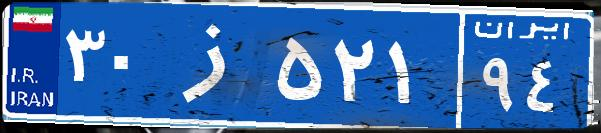0: (110, 28, 158, 105)
1: (385, 28, 445, 110)
2: (330, 28, 385, 110)
3: (57, 26, 110, 107)
4: (525, 38, 570, 115)
5: (273, 28, 330, 110)
9: (475, 38, 525, 113)
ز: (158, 15, 273, 115)
